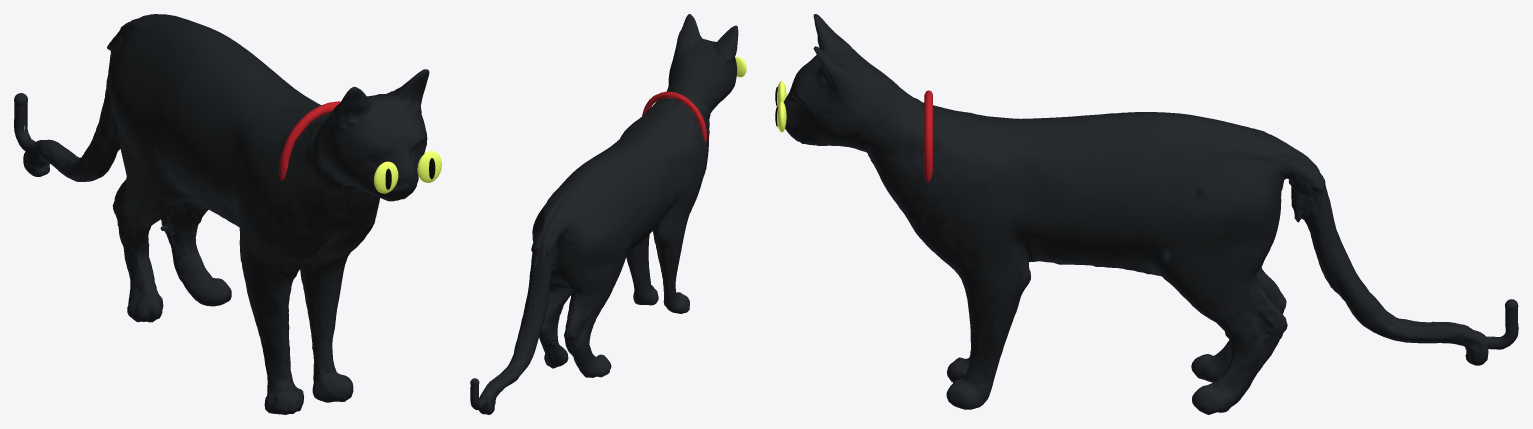
Rendered from nanami-mobile.glb.
3 views of the same model, side by side, from view 1: azimuth 30°, elevation 25°; view 2: azimuth 150°, elevation 25°; view 3: azimuth 270°, elevation 25° (orthographic). The views are drawn at different scales.
Visible parts, largest first — view 1: object 1, Nanami collar, Nanami kinked tail, Nanami iris left, Nanami iris right; view 2: object 1, Nanami collar, Nanami kinked tail; view 3: object 1, Nanami collar, Nanami kinked tail.
Boxes of the visible parts, x1,y1,x2,y2 form: object 1: (23, 14, 429, 414); Nanami collar: (279, 101, 340, 181); Nanami kinked tail: (14, 103, 35, 151); Nanami iris left: (374, 161, 398, 193); Nanami iris right: (417, 151, 441, 182); object 1: (479, 14, 738, 414); Nanami collar: (642, 91, 706, 142); Nanami kinked tail: (470, 385, 486, 410); object 1: (783, 14, 1488, 414); Nanami collar: (924, 90, 932, 182); Nanami kinked tail: (1485, 308, 1518, 349).
Size of the model in its own units: 0.3525 by 1.14 by 2.1.
